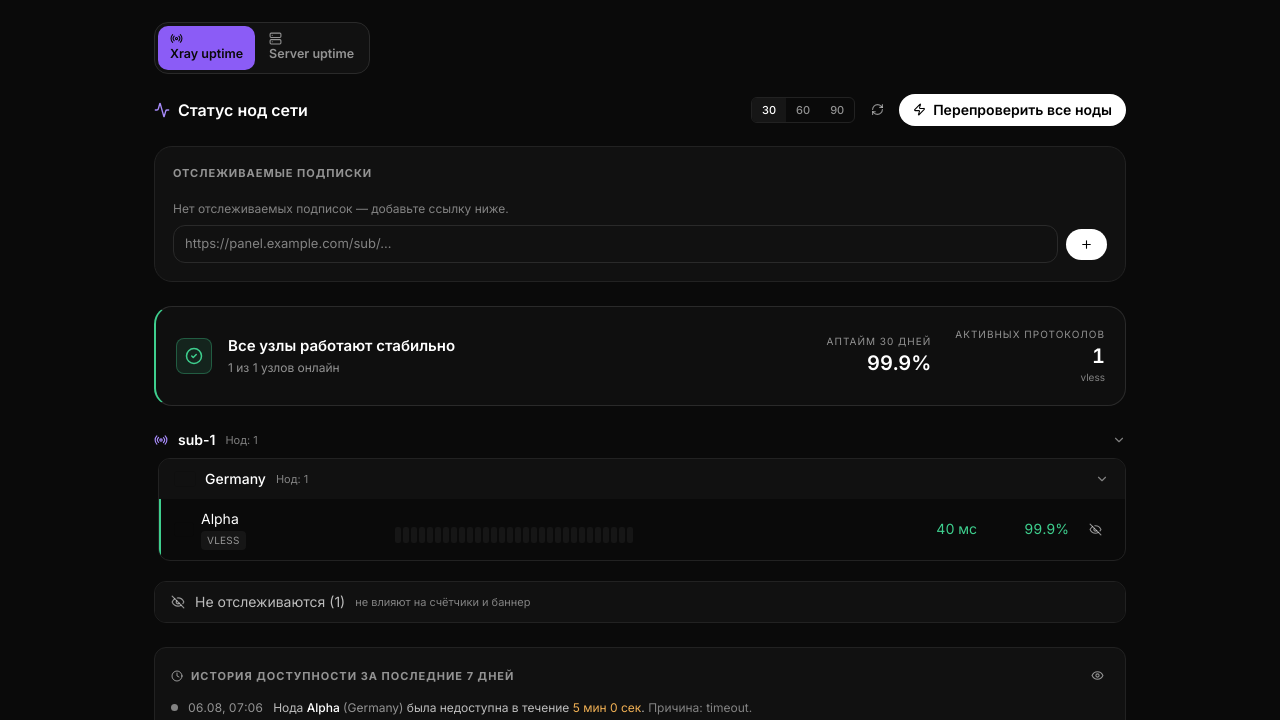
Dashboard › скрытие истории доступности (Wave-4) › eye-кнопка скрывает список и запоминает выбор в localStorage
Expected: the text "была недоступна" is shown, top-left (403, 700), bottom-right (573, 715)
What coordinates should you click on to do the following:
click the button titled "Скрыть историю"
I would click on:
 (1097, 676)
Its box is top-left (1085, 664), bottom-right (1109, 688).
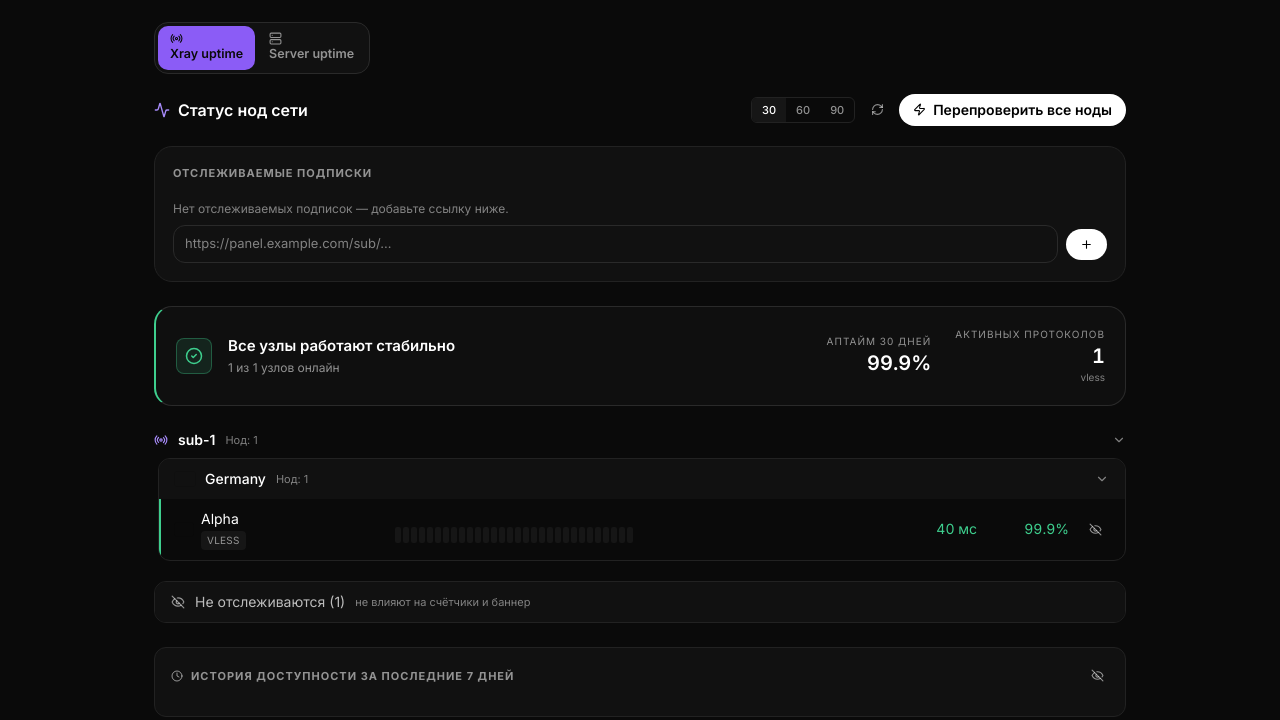
Result: the text "была недоступна" is gone
// и возвращается обратно
What coordinates should you click on to do the following:
click the button titled "Показать историю"
I would click on:
 (1097, 676)
Its box is top-left (1085, 664), bottom-right (1109, 688).
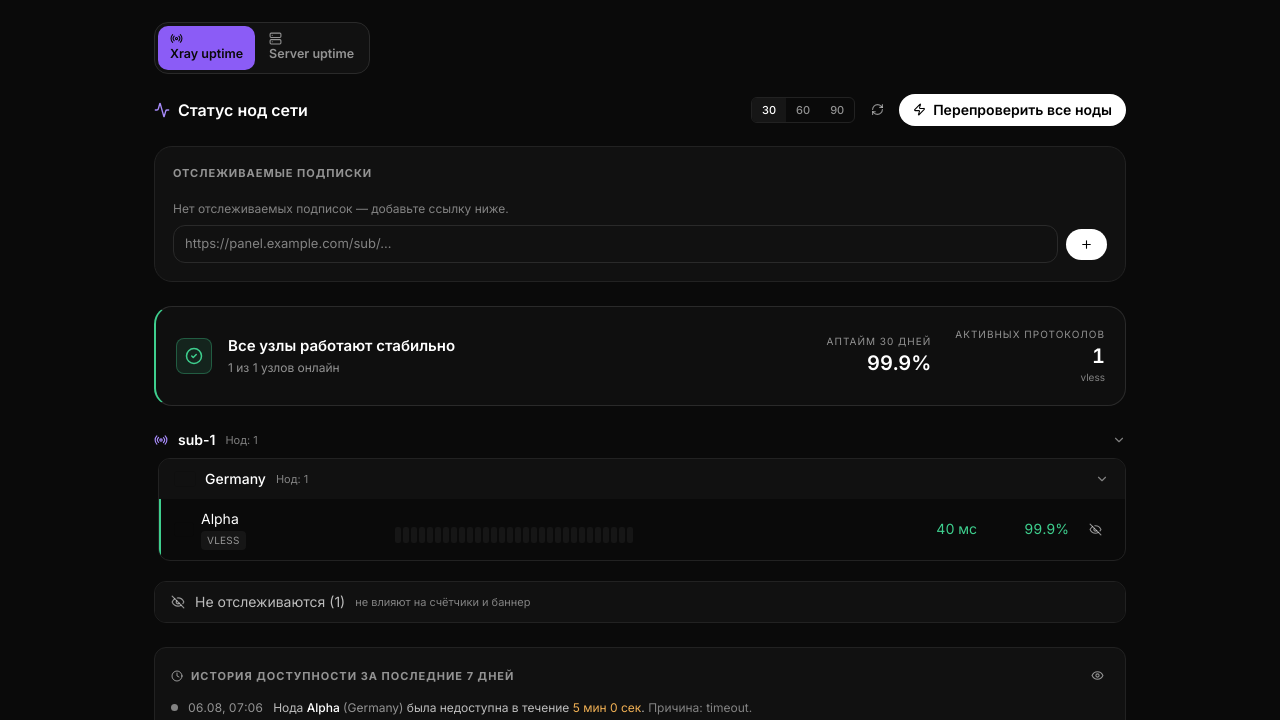
Result: the text "была недоступна" is shown at top-left (403, 700), bottom-right (573, 715)
